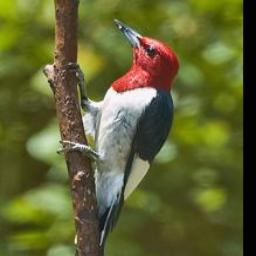Woodpecker: (58, 20, 181, 256)
